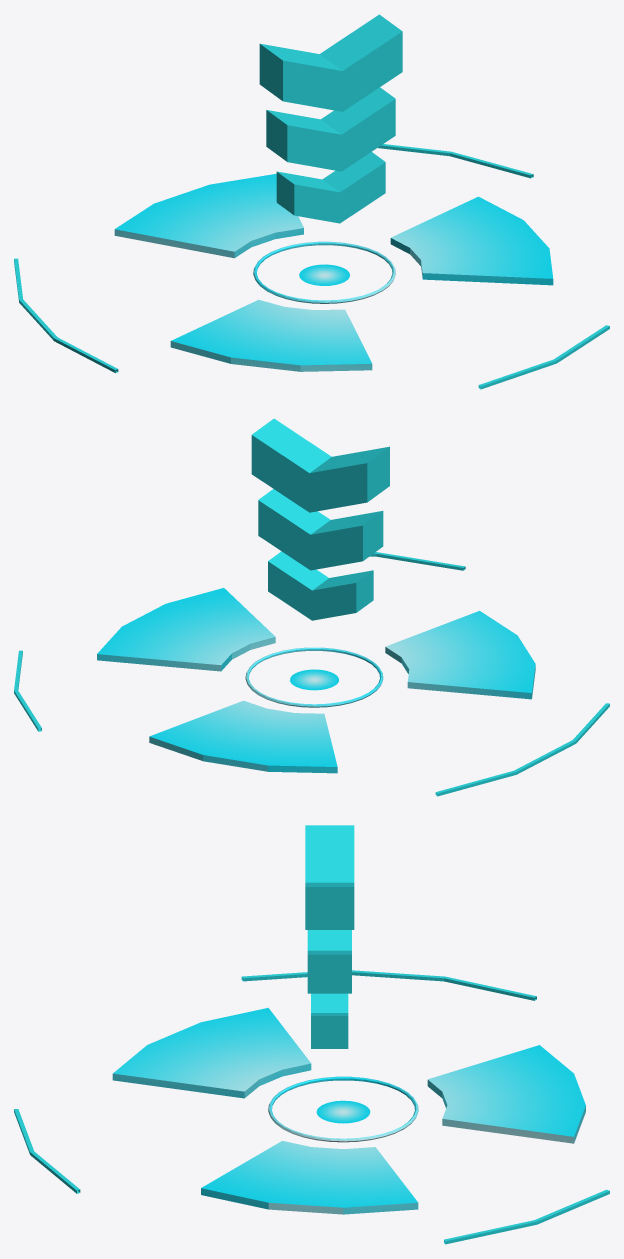
Rendered from building.glb.
3 views of the same model, one above another, from view 1: azimuth 30°, elevation 25°; view 2: azimuth 150°, elevation 25°; view 3: azimuth 270°, elevation 25° (orthographic). The views are drawn at different scales.
Visible parts, largest first — view 1: 圆环, 立方体.002, 立方体.001, 立方体, 圆环.002, Torus, 圆环.001; view 2: 圆环, 立方体.002, 立方体.001, 立方体, 圆环.002, Torus, 圆环.001; view 3: 圆环, 立方体.002, 圆环.002, 立方体.001, 立方体, Torus, 圆环.001.
Part boxes in pixels (bbox=[...]): 圆环: bbox=[114, 173, 553, 371]; 立方体.002: bbox=[259, 14, 402, 111]; 立方体.001: bbox=[266, 87, 395, 171]; 立方体: bbox=[276, 152, 385, 223]; 圆环.002: bbox=[14, 144, 609, 389]; Torus: bbox=[253, 241, 395, 303]; 圆环.001: bbox=[299, 264, 350, 285]; 圆环: bbox=[97, 588, 535, 773]; 立方体.002: bbox=[251, 418, 389, 512]; 立方体.001: bbox=[258, 489, 383, 570]; 立方体: bbox=[268, 551, 373, 620]; 圆环.002: bbox=[14, 552, 609, 796]; Torus: bbox=[245, 647, 383, 707]; 圆环.001: bbox=[289, 669, 338, 690]; 圆环: bbox=[112, 1007, 585, 1214]; 立方体.002: bbox=[305, 825, 354, 929]; 圆环.002: bbox=[14, 970, 609, 1244]; 立方体.001: bbox=[307, 930, 351, 993]; 立方体: bbox=[311, 993, 348, 1048]; Torus: bbox=[268, 1076, 418, 1142]; 圆环.001: bbox=[316, 1100, 370, 1123].
Size of the model in its own units: 1.22 by 0.536 by 1.13.
2 materials, 1 textured.
